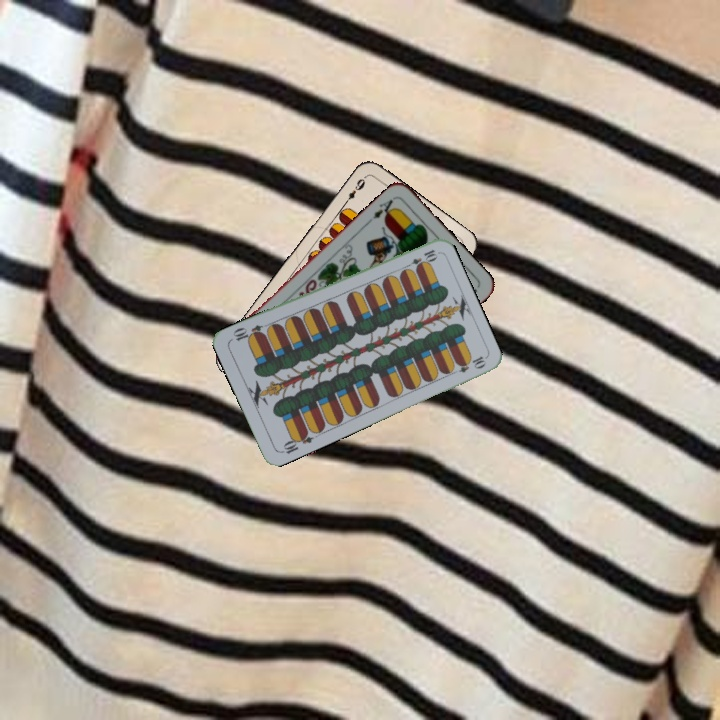E10: (277, 427, 315, 456), (401, 245, 439, 272)
E9: (340, 172, 368, 207)
EA: (368, 196, 399, 221)
